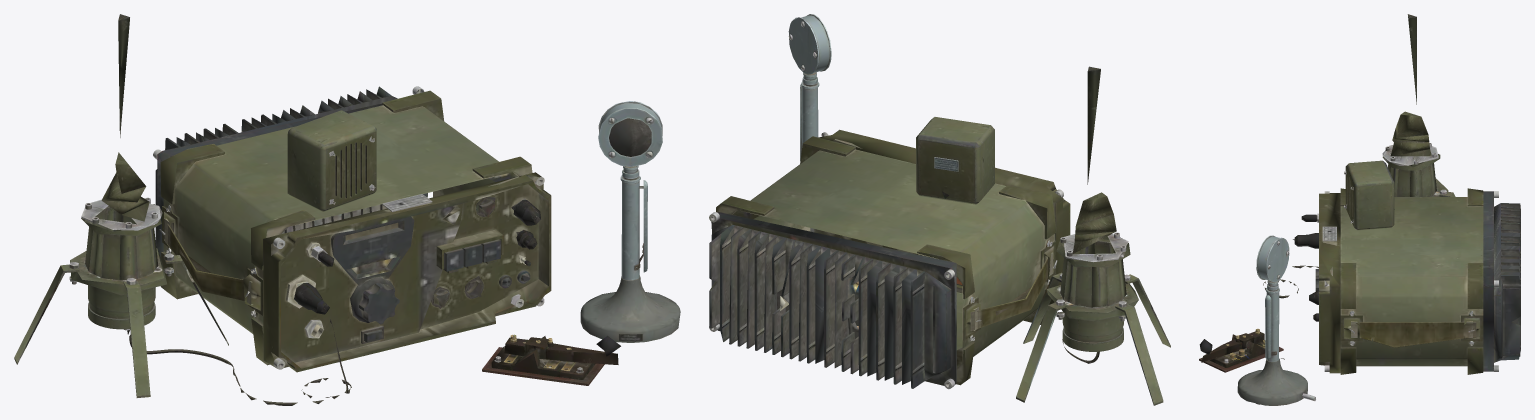
The model's file is vintage_radio_transceiver.glb.
The picture shows the model from 3 angles, left to right: view 1: azimuth 30°, elevation 25°; view 2: azimuth 150°, elevation 25°; view 3: azimuth 270°, elevation 25°; orthographic projection. The views are drawn at different scales.
Parts seen in each view (by area): view 1: vintage_radio_transceiver, vintage_radio_transceiver_antenna, vintage_radio_transceiver_microphone, vintage_radio_transceiver_speaker, vintage_radio_transceiver_morse_key_base, vintage_radio_transceiver_morse_key_arm, vintage_radio_transceiver_dial, vintage_radio_transceiver_cables, vintage_radio_transceiver_antenna_plug_a; view 2: vintage_radio_transceiver, vintage_radio_transceiver_antenna, vintage_radio_transceiver_speaker, vintage_radio_transceiver_microphone; view 3: vintage_radio_transceiver, vintage_radio_transceiver_microphone, vintage_radio_transceiver_antenna, vintage_radio_transceiver_speaker, vintage_radio_transceiver_morse_key_base, vintage_radio_transceiver_morse_key_arm, vintage_radio_transceiver_antenna_plug_a.
Part boxes in pixels (x1,y1,x2,y2): vintage_radio_transceiver: [153, 86, 551, 372]; vintage_radio_transceiver_antenna: [14, 14, 228, 397]; vintage_radio_transceiver_microphone: [580, 101, 680, 342]; vintage_radio_transceiver_speaker: [287, 110, 376, 211]; vintage_radio_transceiver_morse_key_base: [482, 336, 604, 385]; vintage_radio_transceiver_morse_key_arm: [504, 334, 620, 364]; vintage_radio_transceiver_dial: [350, 277, 399, 324]; vintage_radio_transceiver_cables: [129, 308, 351, 405]; vintage_radio_transceiver_antenna_plug_a: [294, 283, 329, 314]; vintage_radio_transceiver: [709, 129, 1070, 389]; vintage_radio_transceiver_antenna: [1016, 66, 1170, 405]; vintage_radio_transceiver_speaker: [916, 117, 994, 204]; vintage_radio_transceiver_microphone: [788, 14, 831, 232]; vintage_radio_transceiver: [1319, 188, 1520, 374]; vintage_radio_transceiver_microphone: [1237, 235, 1315, 405]; vintage_radio_transceiver_antenna: [1382, 14, 1455, 196]; vintage_radio_transceiver_speaker: [1344, 160, 1394, 230]; vintage_radio_transceiver_morse_key_base: [1199, 334, 1283, 372]; vintage_radio_transceiver_morse_key_arm: [1199, 328, 1264, 362]; vintage_radio_transceiver_antenna_plug_a: [1294, 233, 1318, 248].
Size of the model in its own units: 0.5639 by 0.3332 by 0.4102.
Materials: 2 (2 with a texture image).
